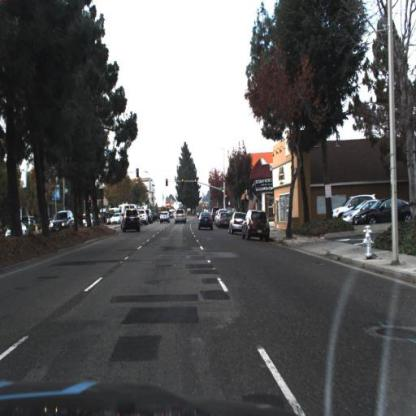car: (352, 196, 415, 228), (333, 192, 375, 224), (241, 208, 272, 244), (342, 201, 379, 224), (48, 208, 78, 235), (50, 212, 77, 235), (228, 208, 248, 239), (122, 208, 144, 234), (196, 210, 217, 232), (5, 224, 30, 242), (217, 210, 234, 232), (218, 209, 232, 230), (157, 207, 173, 225), (175, 208, 189, 226), (141, 212, 151, 228), (161, 213, 171, 225)
